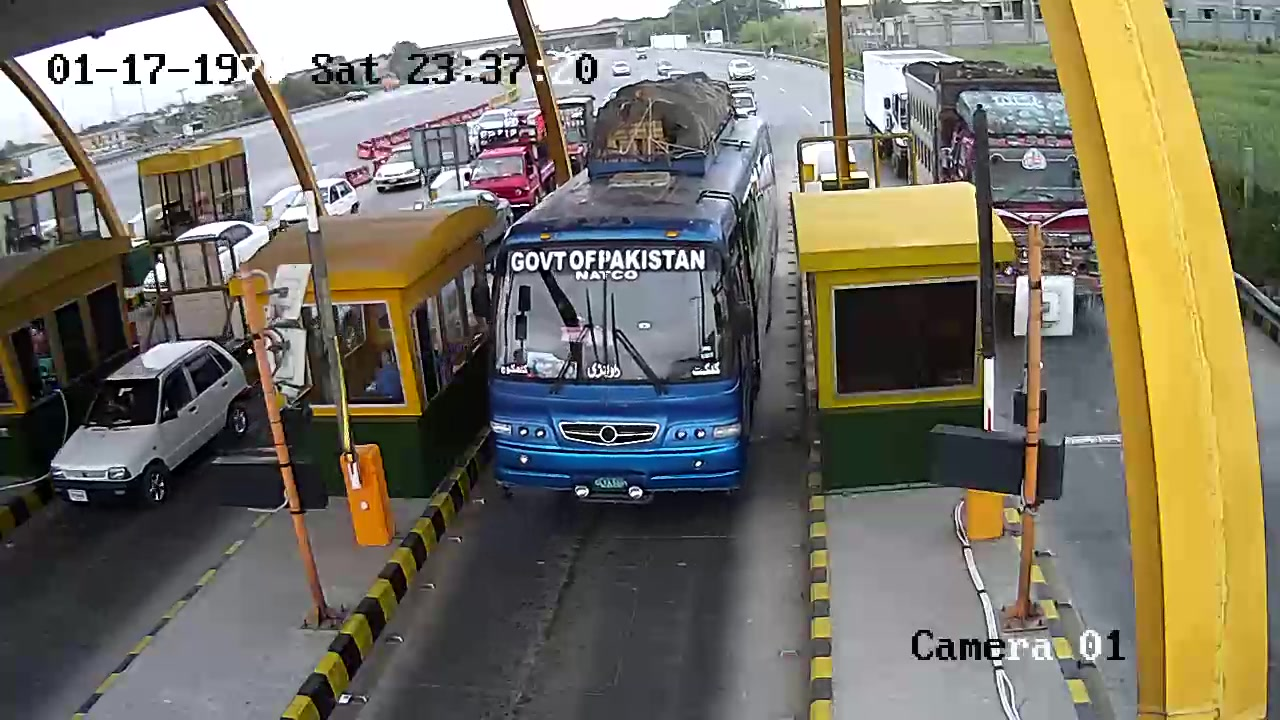F4: (494, 79, 783, 515)
